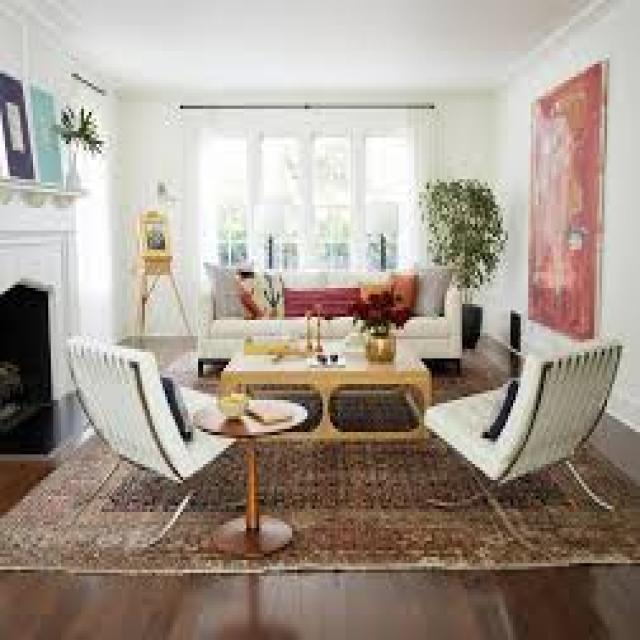Chair: (402, 318, 617, 538), (61, 320, 238, 547)
Sofa: (180, 253, 490, 386)
Table: (224, 335, 433, 447), (198, 393, 315, 557)
